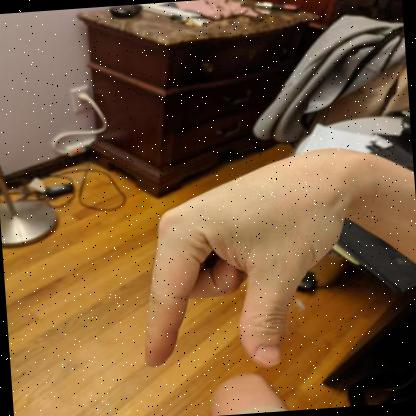Q: (145, 148, 349, 367)
